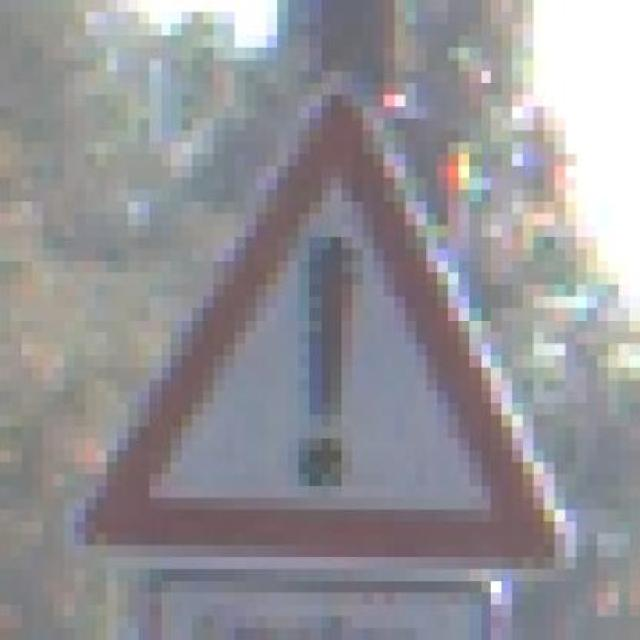Attention Please-: (64, 70, 598, 582)
